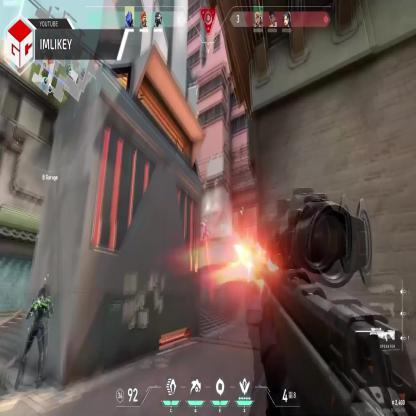enemy: (201, 216, 209, 243)
enemy_head: (204, 217, 206, 224)
